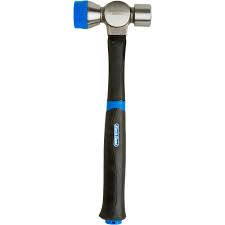hammer: (72, 1, 152, 222)
